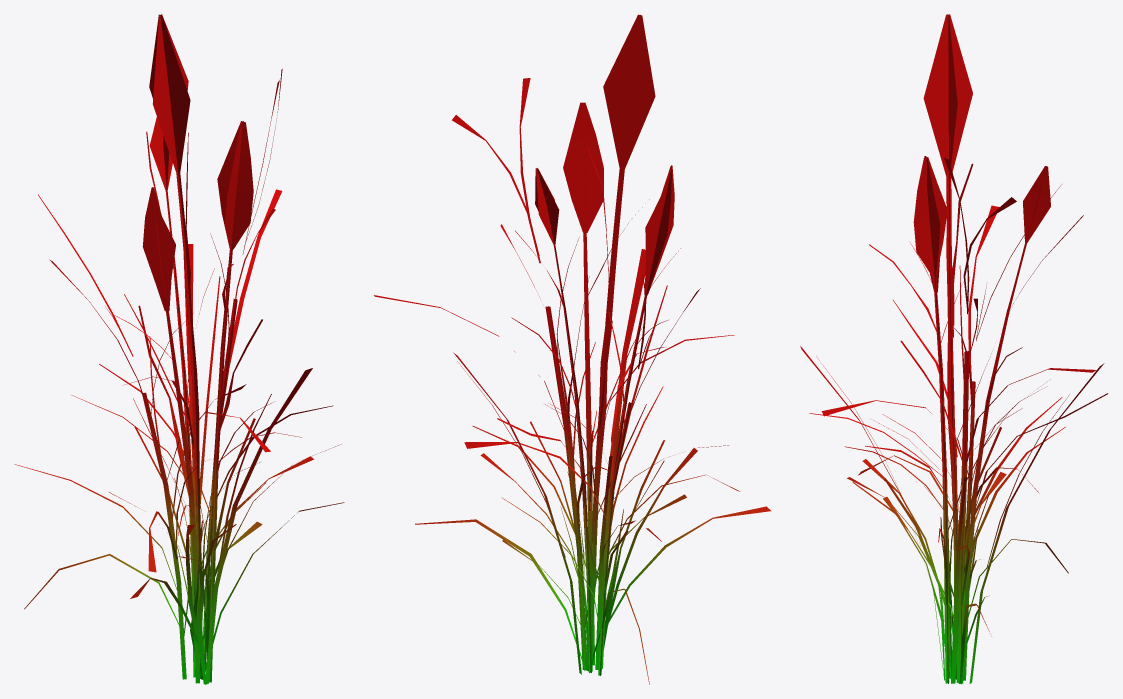
Rendered from Rough Meadow Grass_LOD2_Var1_skFjJ.fbx.
3 renders of one model, left to right at view 1: azimuth 30°, elevation 25°; view 2: azimuth 150°, elevation 25°; view 3: azimuth 270°, elevation 25°, orthographic. The views are drawn at different scales.
Parts seen in each view (by area): view 1: _f3e3_Var1_LOD2; view 2: _f3e3_Var1_LOD2; view 3: _f3e3_Var1_LOD2.
Boxes of the visible parts, x1,y1,x2,y2 form: _f3e3_Var1_LOD2: (14, 14, 344, 684); _f3e3_Var1_LOD2: (374, 14, 770, 684); _f3e3_Var1_LOD2: (800, 14, 1108, 684).
Size of the model in its own units: 56.46 by 125 by 54.16.
